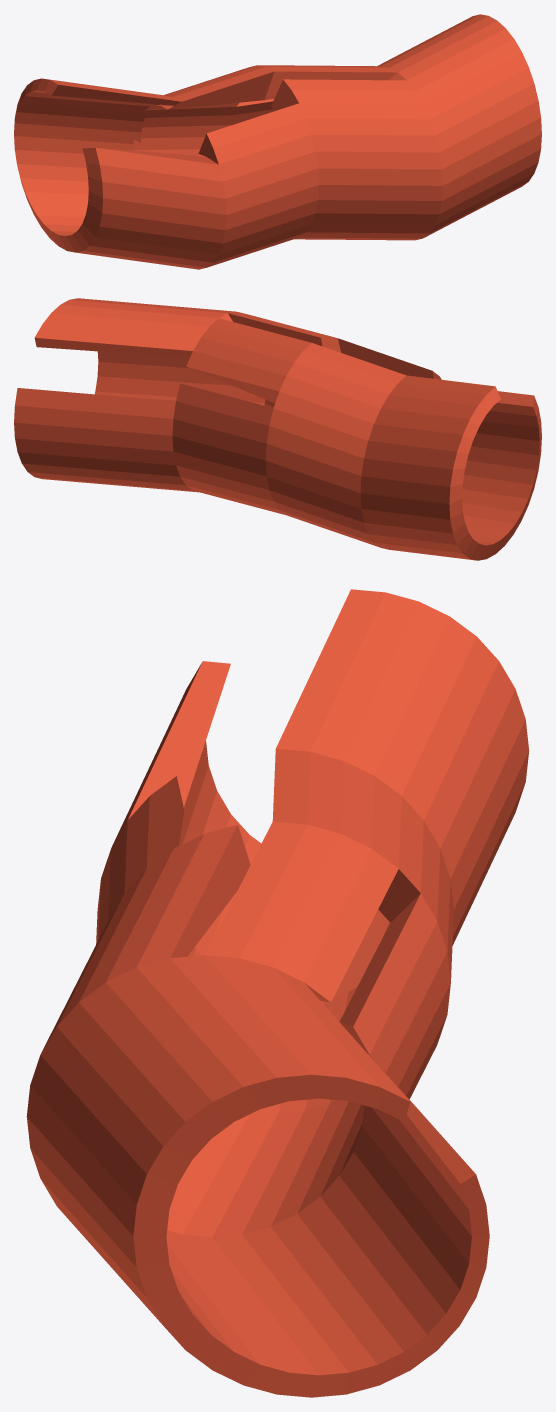
Rendered from Pogorze.fbx.
The picture shows the model from 3 angles, top to bottom: view 1: azimuth 30°, elevation 25°; view 2: azimuth 150°, elevation 25°; view 3: azimuth 270°, elevation 25°; orthographic projection. The views are drawn at different scales.
Parts seen in each view (by area): view 1: Cylinder; view 2: Cylinder; view 3: Cylinder.
Part boxes in pixels (box(x1,y1,x2,y2)): Cylinder: box(14, 14, 541, 269); Cylinder: box(14, 298, 541, 560); Cylinder: box(26, 589, 529, 1397).
Bounding box in the file's own units: 564 × 243 × 282.
